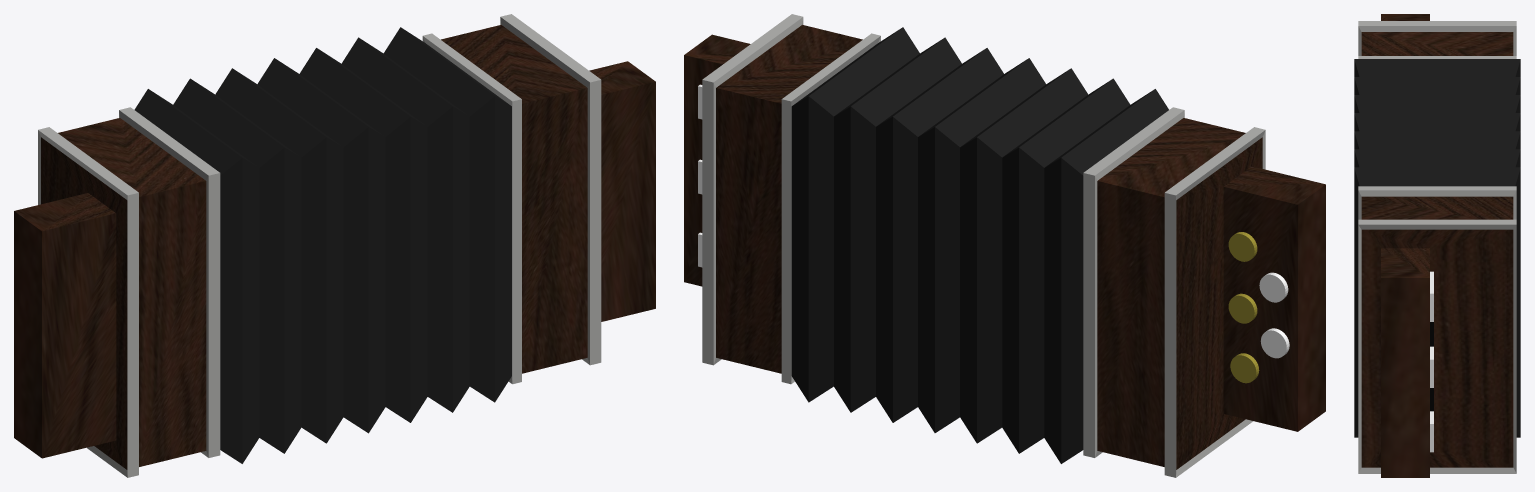
File: garmon.glb
The picture shows the model from 3 angles, left to right: view 1: azimuth 30°, elevation 25°; view 2: azimuth 150°, elevation 25°; view 3: azimuth 270°, elevation 25°; orthographic projection. The views are drawn at different scales.
Visible parts, largest first — view 1: Cube; view 2: Cube; view 3: Cube.
Boxes of the visible parts, x1,y1,x2,y2 form: Cube: (14,14,655,477); Cube: (684,14,1325,477); Cube: (1354,14,1520,477).
Bounding box in the file's own units: 822 × 392 × 219.
1 material, 1 textured.
